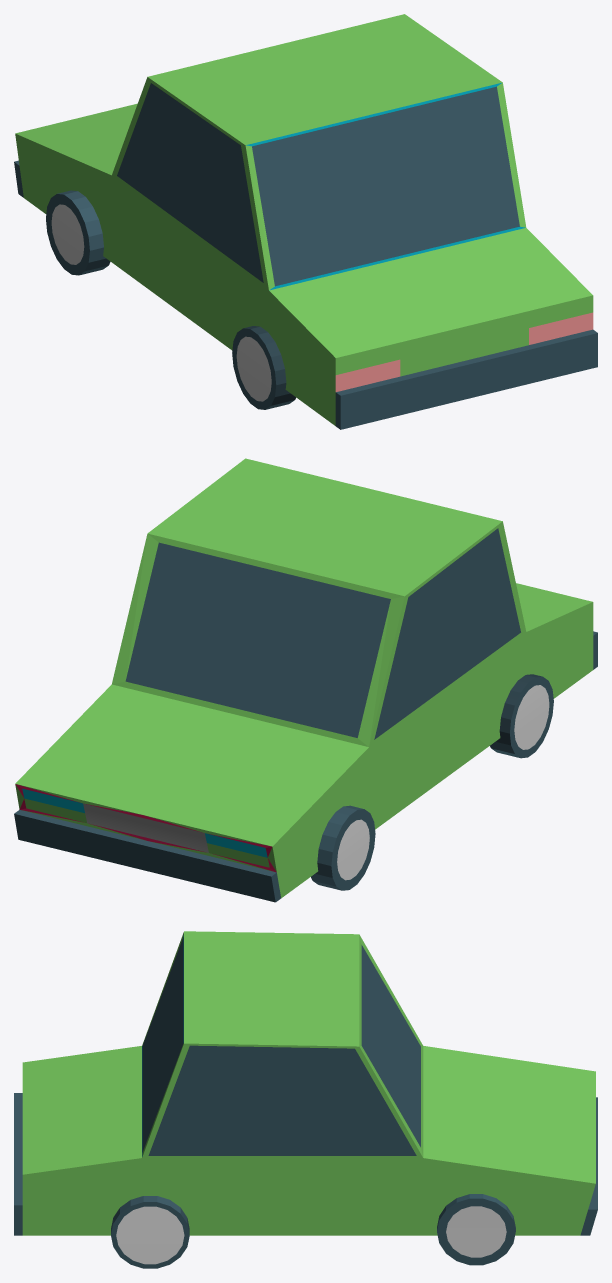
Rendered from Car1Green1x1.fbx.
3 renders of one model, top to bottom at view 1: azimuth 30°, elevation 25°; view 2: azimuth 150°, elevation 25°; view 3: azimuth 270°, elevation 25°, orthographic. The views are drawn at different scales.
Visible parts, largest first — view 1: Car_04_4; view 2: Car_04_4; view 3: Car_04_4.
Boxes of the visible parts, bbox=[...] form: Car_04_4: bbox=[14, 14, 597, 429]; Car_04_4: bbox=[14, 458, 597, 902]; Car_04_4: bbox=[14, 931, 597, 1268].
Bounding box in the file's own units: 0.4944 × 0.4046 × 0.9785.
1 material, 1 textured.
